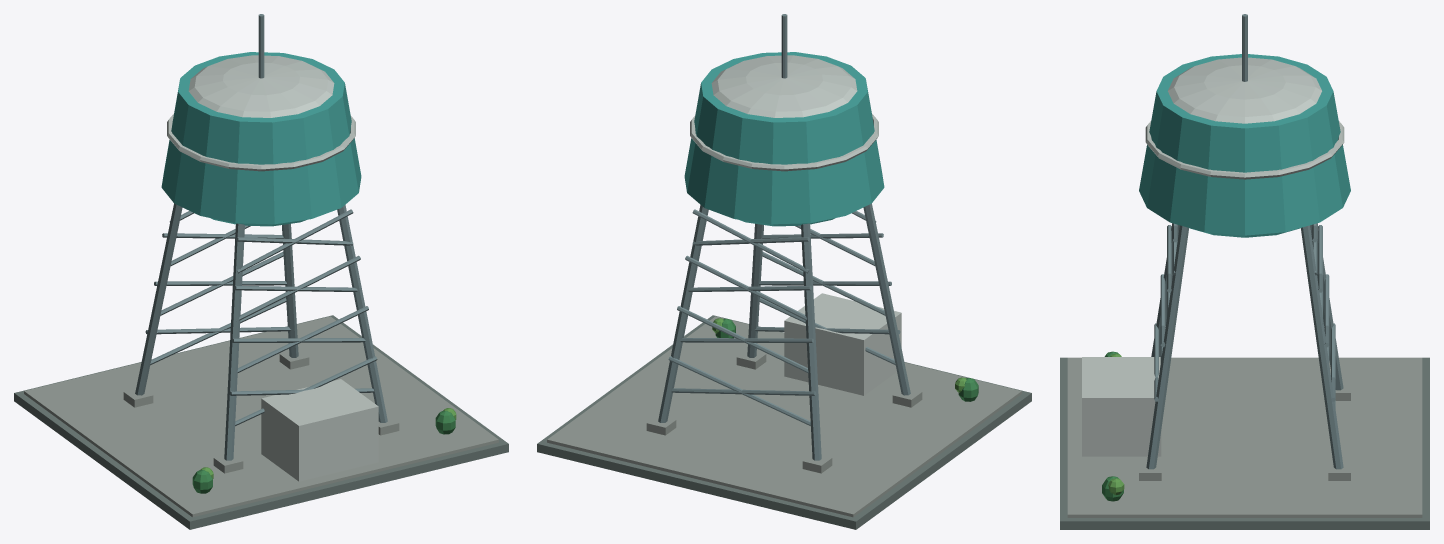
Rendered from water_lv2.glb.
The picture shows the model from 3 angles, left to right: view 1: azimuth 30°, elevation 25°; view 2: azimuth 150°, elevation 25°; view 3: azimuth 270°, elevation 25°; orthographic projection. The views are drawn at different scales.
Visible parts, largest first — view 1: rough, metallic; view 2: rough, metallic; view 3: rough, metallic.
Boxes of the visible parts, left/top/right/bottom form: rough: left=14, top=52, right=508, bottom=529; metallic: left=135, top=14, right=387, bottom=460; rough: left=537, top=52, right=1031, bottom=529; metallic: left=658, top=14, right=910, bottom=460; rough: left=1060, top=54, right=1429, bottom=529; metallic: left=1146, top=14, right=1343, bottom=469.
Size of the model in its own units: 8.8 by 10.85 by 8.4.
